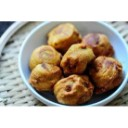bonda: (58, 77, 93, 106), (59, 43, 93, 72), (97, 56, 122, 87), (31, 62, 56, 92)
